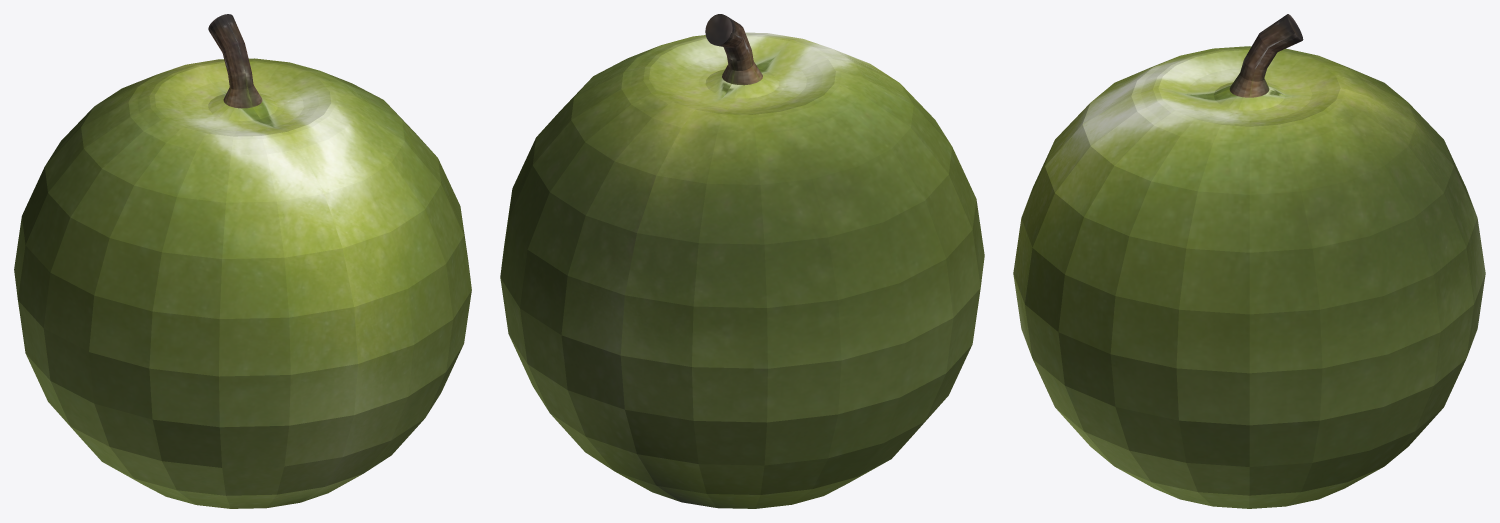
The model's file is apple.fbx.
The picture shows the model from 3 angles, left to right: view 1: azimuth 30°, elevation 25°; view 2: azimuth 150°, elevation 25°; view 3: azimuth 270°, elevation 25°; orthographic projection. The views are drawn at different scales.
Parts seen in each view (by area): view 1: apple; view 2: apple; view 3: apple.
Boxes of the visible parts, x1,y1,x2,y2 form: apple: (14,14,471,508); apple: (500,14,984,508); apple: (1013,14,1485,508).
Bounding box in the file's own units: 200 × 212 × 200.
